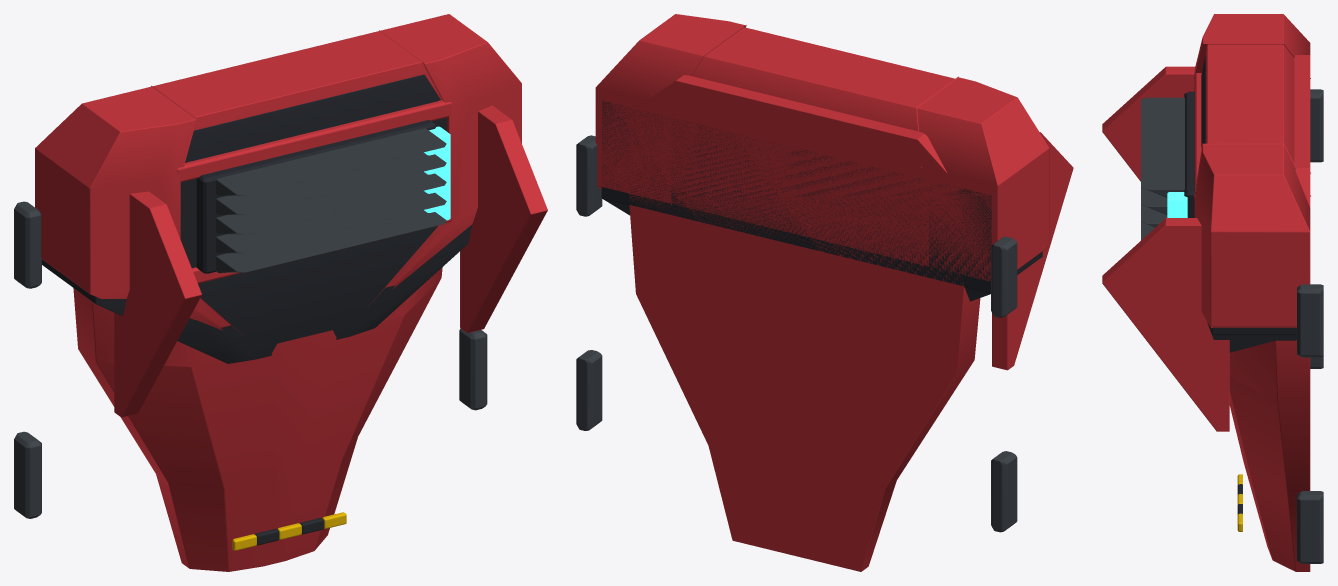
The model's file is BodyBack_Set03_Overclock.fbx.
3 renders of one model, left to right at view 1: azimuth 30°, elevation 25°; view 2: azimuth 150°, elevation 25°; view 3: azimuth 270°, elevation 25°, orthographic. The views are drawn at different scales.
Visible parts, largest first — view 1: BodyBack_Set03_Overclock; view 2: BodyBack_Set03_Overclock; view 3: BodyBack_Set03_Overclock.
Boxes of the visible parts, bbox=[...] form: BodyBack_Set03_Overclock: bbox=[14, 14, 547, 571]; BodyBack_Set03_Overclock: bbox=[576, 14, 1073, 571]; BodyBack_Set03_Overclock: bbox=[1102, 14, 1323, 571].
Bounding box in the file's own units: 1.07 × 1.1 × 0.4945.
